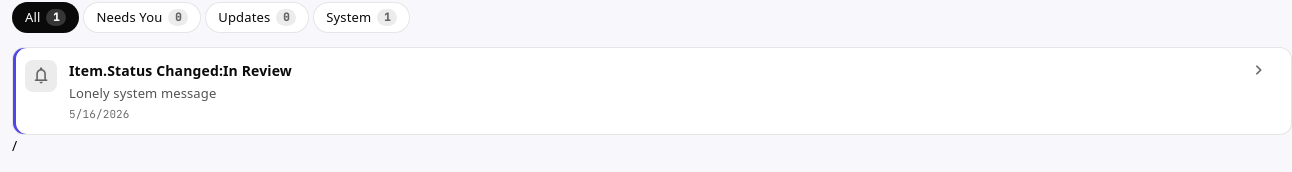
Test: InAppFeedTabContent › falls back to /notifications when nothing else matches (same as a push click)
This screenshot has width=1292, height=172.
Click the text "Lonely system message": [143, 93] box [69, 84, 216, 102]
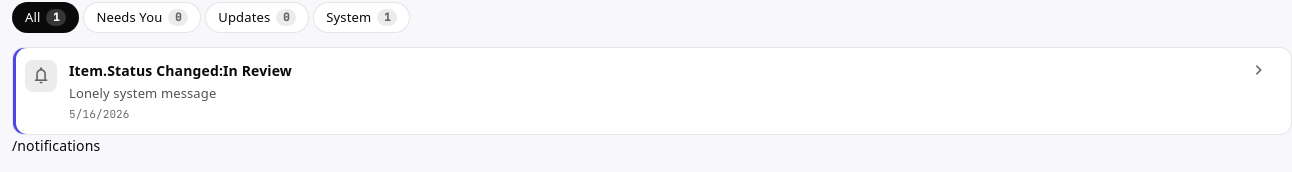
Check: the text with test id "location" reads "/notifications", box [12, 136, 100, 155]
